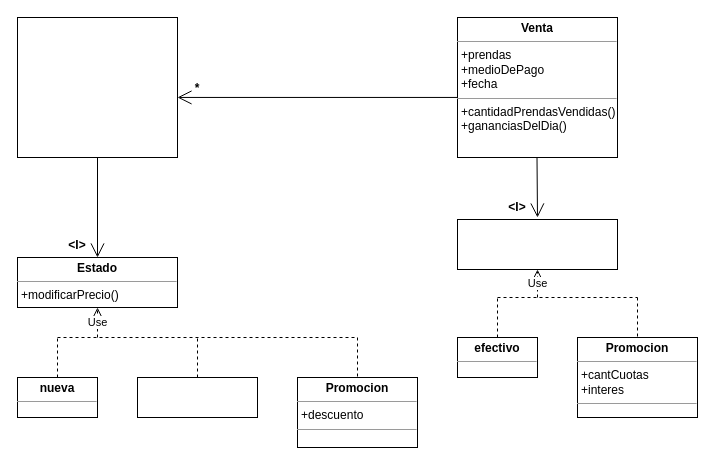
The diagram is 715 pixels wide and 465 high, and some of its shapes have lost their labels. Each missing label, with the centre of its shape:
liquidacion: the point at 197,397
MedioDePago +calcularGananciaFinal(): the point at 537,244
Prenda +precio +estado +tipoDePrenda +precioVenta() +estado() +tipoDePrenda(): the point at 97,87
